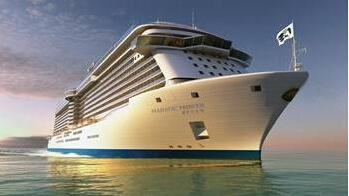Ship: (42, 21, 310, 163)
